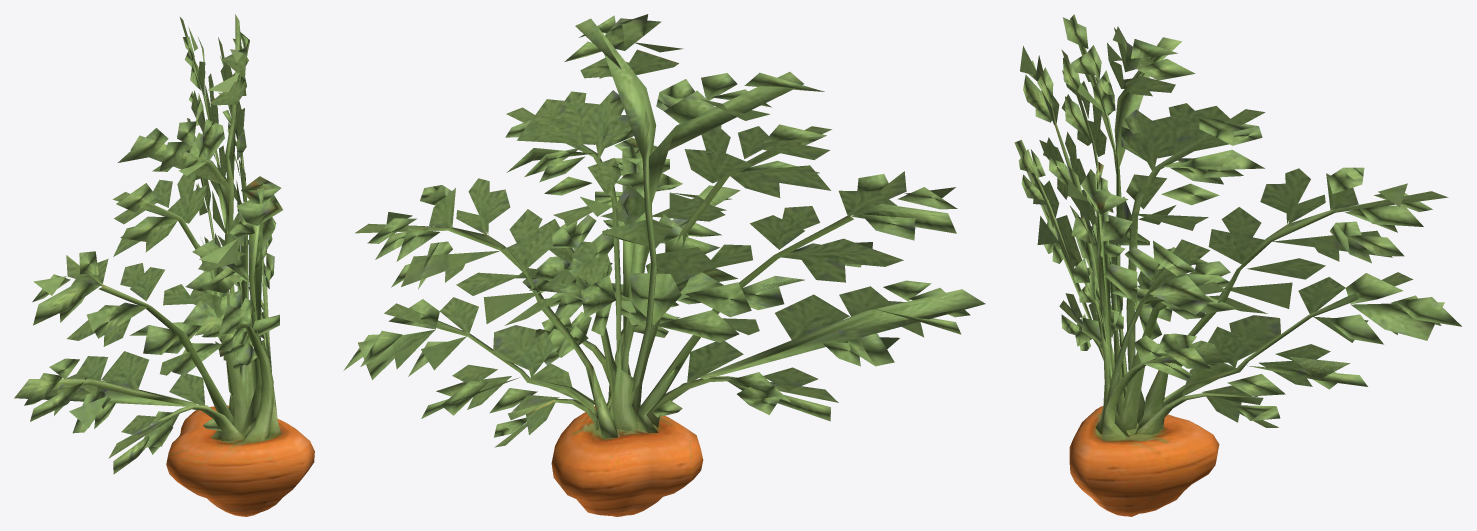
The model's file is crop_carrot_3.glb.
3 renders of one model, left to right at view 1: azimuth 30°, elevation 25°; view 2: azimuth 150°, elevation 25°; view 3: azimuth 270°, elevation 25°, orthographic. The views are drawn at different scales.
Parts seen in each view (by area): view 1: crop_carrot_3; view 2: crop_carrot_3; view 3: crop_carrot_3.
Part boxes in pixels (left/top/right/bottom): crop_carrot_3: left=14, top=14, right=314, bottom=516; crop_carrot_3: left=343, top=14, right=985, bottom=516; crop_carrot_3: left=1014, top=14, right=1461, bottom=516.
Size of the model in its own units: 0.84 by 1 by 0.84.
1 material, 1 textured.
